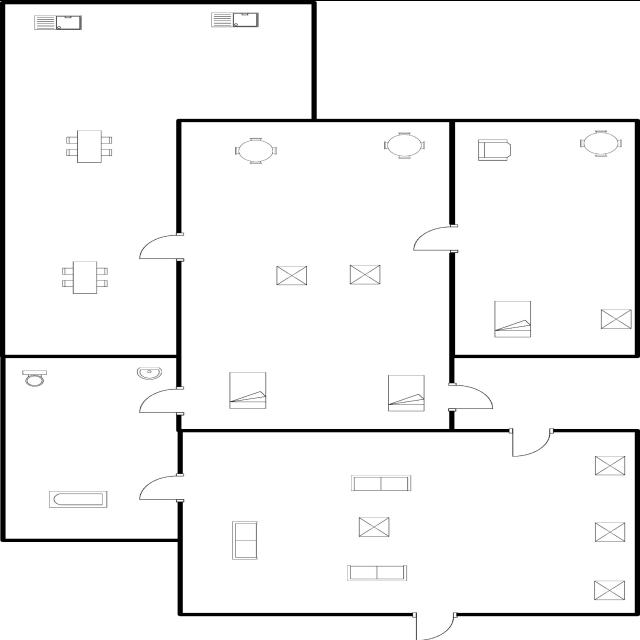armchair: (473, 131, 518, 164)
bed: (381, 371, 431, 415), (222, 368, 270, 412), (272, 262, 312, 288), (596, 306, 636, 331), (345, 260, 383, 286)
coffee_table: (588, 578, 630, 604), (589, 452, 629, 478), (590, 518, 629, 544), (354, 514, 394, 538)
dining_table: (57, 256, 115, 299), (61, 126, 119, 166)
large_sink: (18, 365, 52, 389)
large_sofa: (224, 518, 263, 562), (343, 560, 413, 582), (346, 472, 416, 493)
round_table: (230, 132, 282, 168), (376, 128, 431, 162), (574, 126, 626, 160)
sink: (28, 12, 88, 32), (208, 8, 264, 28)
small_sink: (131, 363, 167, 383)
tub: (43, 486, 114, 511)
